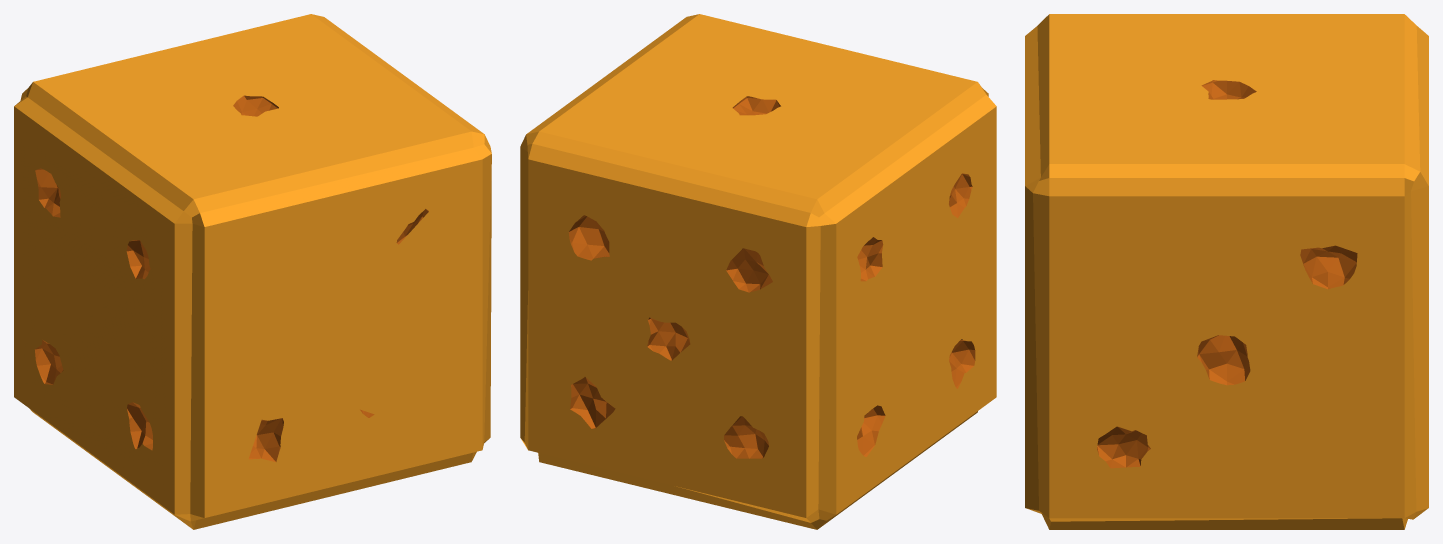
Rendered from Die_Cheddar_d6.fbx.
3 views of the same model, side by side, from view 1: azimuth 30°, elevation 25°; view 2: azimuth 150°, elevation 25°; view 3: azimuth 270°, elevation 25° (orthographic). The views are drawn at different scales.
Parts seen in each view (by area): view 1: Die_Cheddar_d6; view 2: Die_Cheddar_d6; view 3: Die_Cheddar_d6.
Part boxes in pixels (x1,y1,x2,y2): Die_Cheddar_d6: (14,14,491,529); Die_Cheddar_d6: (520,14,996,529); Die_Cheddar_d6: (1025,14,1428,529).
Bounding box in the file's own units: 1 × 1 × 1.
